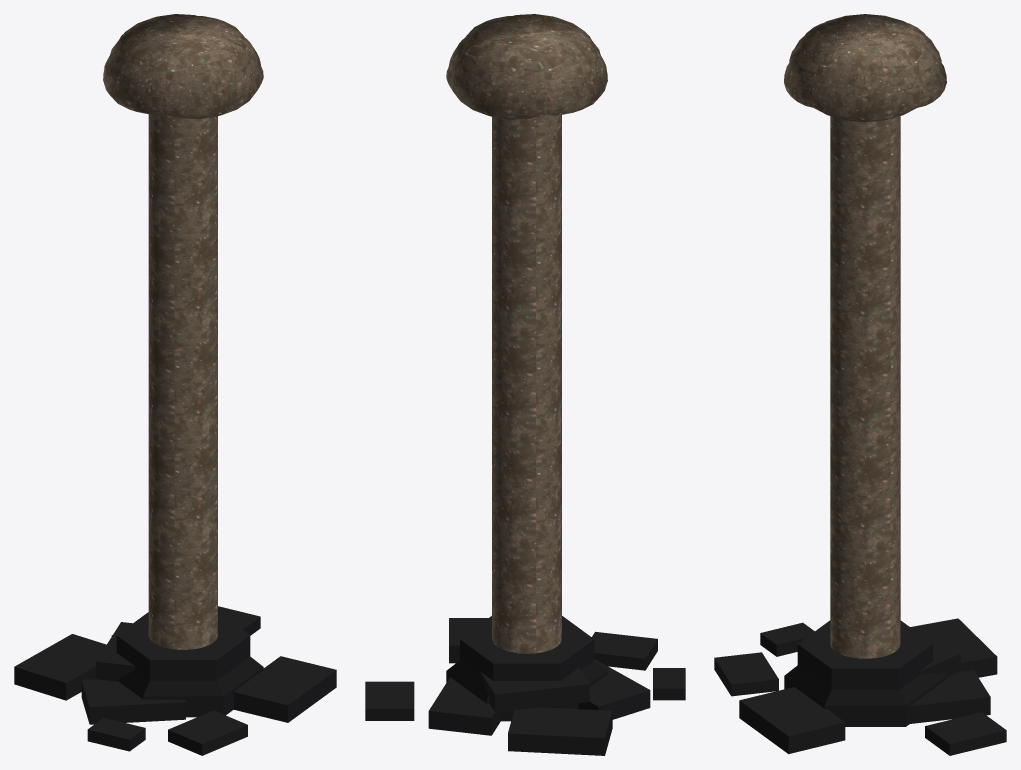
Rendered from L2_Geiser.obj.
3 renders of one model, left to right at view 1: azimuth 30°, elevation 25°; view 2: azimuth 150°, elevation 25°; view 3: azimuth 270°, elevation 25°, orthographic.
Visible parts, largest first — view 1: cylinder, debris_stone, sphere, hexagon_baseLarge%; view 2: cylinder, debris_stone, sphere, hexagon_baseLarge%; view 3: cylinder, debris_stone, sphere, hexagon_baseLarge%.
Part boxes in pixels (x1,y1,x2,y2): cylinder: (148,114,217,649); debris_stone: (14,606,336,755); sphere: (103,14,263,118); hexagon_baseLarge%: (116,612,263,717); cylinder: (492,115,561,653); debris_stone: (365,618,685,755); sphere: (446,14,607,119); hexagon_baseLarge%: (446,616,607,721); cylinder: (830,116,900,658); debris_stone: (714,618,1006,755); sphere: (784,14,946,122); hexagon_baseLarge%: (784,620,946,726).
Bounding box in the file's own units: 2.45 × 6.25 × 2.49.
Materials: 2 (1 with a texture image).
